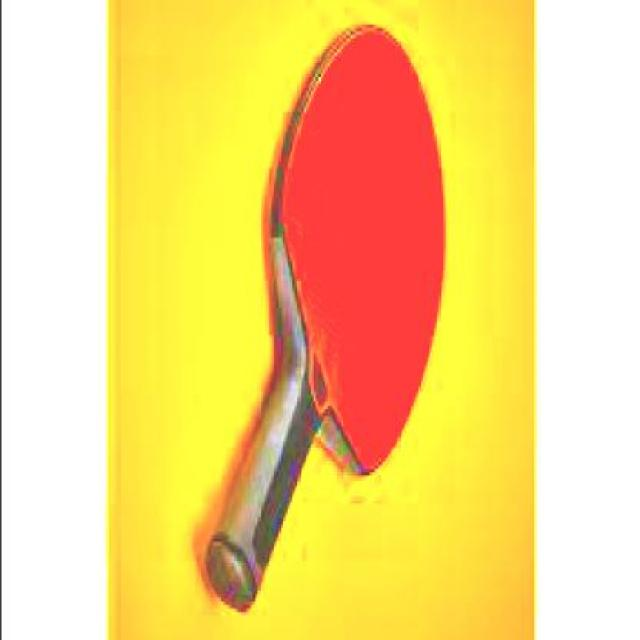table_tennis_racket: (262, 17, 450, 500)
